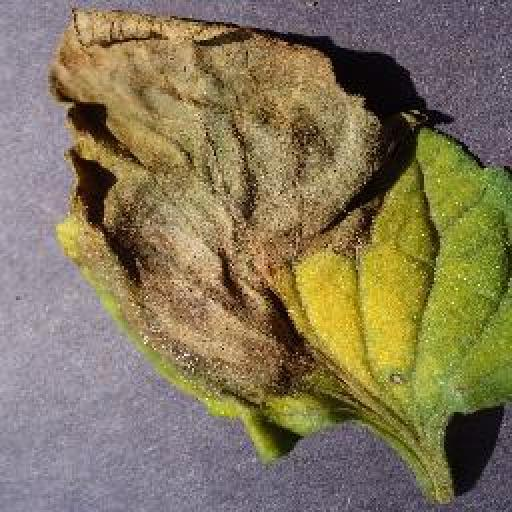disease_tomato: (49, 0, 512, 459)
